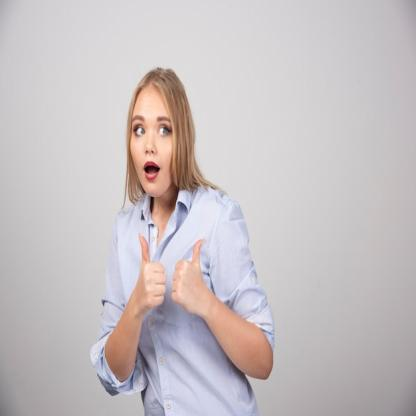thumb_up: (131, 230, 168, 314), (170, 234, 208, 312)
